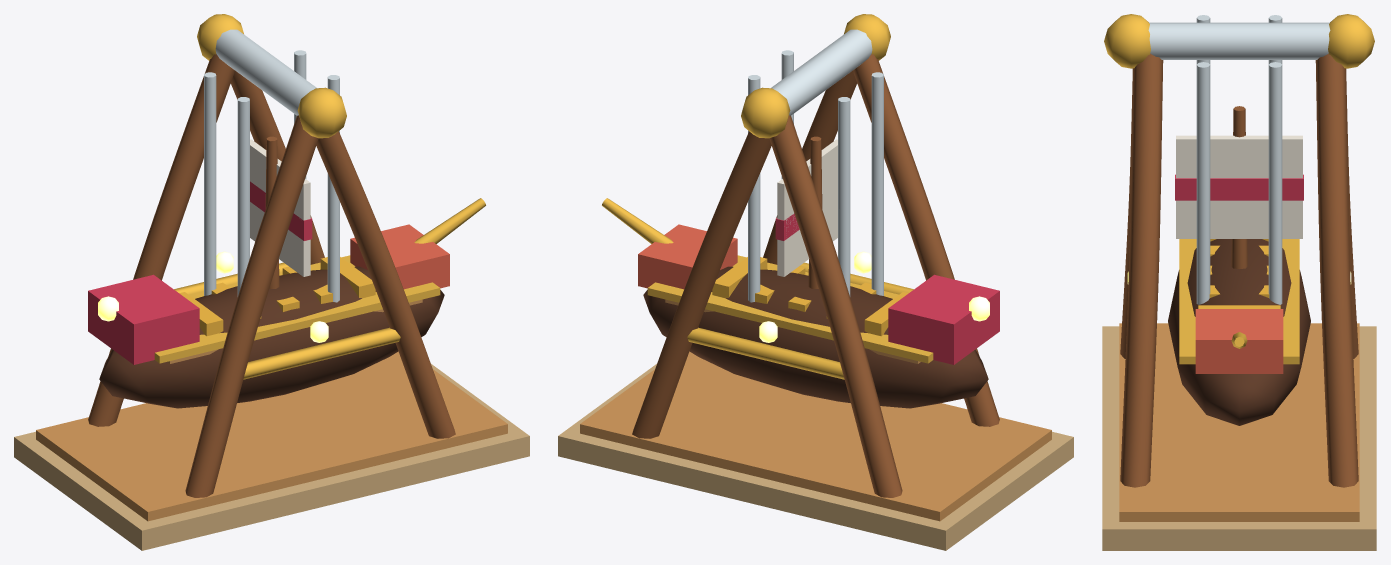
File: pendulum-ship.glb
3 renders of one model, left to right at view 1: azimuth 30°, elevation 25°; view 2: azimuth 150°, elevation 25°; view 3: azimuth 270°, elevation 25°, orthographic. The views are drawn at different scales.
Parts seen in each view (by area): view 1: Mesh_lightWood, Mesh_wood (×2), Mesh_sandStone, Mesh_darkWood, Mesh_chrome (×2), Mesh_gold (×2), Mesh_crimson, Mesh_coral, Mesh_warmWhite, Mesh_mango, Mesh_glowWarm; view 2: Mesh_lightWood, Mesh_wood (×2), Mesh_sandStone, Mesh_darkWood, Mesh_chrome (×2), Mesh_gold (×2), Mesh_crimson, Mesh_coral, Mesh_warmWhite, Mesh_mango, Mesh_glowWarm; view 3: Mesh_wood (×2), Mesh_lightWood, Mesh_sandStone, Mesh_chrome (×2), Mesh_darkWood, Mesh_warmWhite, Mesh_gold (×2), Mesh_coral, Mesh_crimson, Mesh_mango.
Boxes of the visible parts, box(x1,y1,x2,y2) form: Mesh_lightWood: box(36, 351, 507, 521); Mesh_wood (×2): box(88, 54, 455, 497); Mesh_sandStone: box(14, 364, 529, 550); Mesh_darkWood: box(99, 266, 444, 408); Mesh_chrome (×2): box(204, 29, 339, 302); Mesh_gold (×2): box(154, 14, 485, 379); Mesh_crimson: box(88, 181, 312, 364); Mesh_coral: box(350, 224, 449, 289); Mesh_warmWhite: box(250, 139, 310, 276); Mesh_mango: box(179, 257, 375, 336); Mesh_glowWarm: box(216, 251, 328, 342); Mesh_lightWood: box(580, 351, 1051, 521); Mesh_wood (×2): box(632, 54, 999, 497); Mesh_sandStone: box(558, 364, 1073, 550); Mesh_darkWood: box(643, 266, 988, 408); Mesh_chrome (×2): box(748, 29, 883, 302); Mesh_gold (×2): box(602, 14, 933, 379); Mesh_crimson: box(775, 213, 999, 364); Mesh_coral: box(638, 224, 737, 289); Mesh_warmWhite: box(777, 139, 837, 276); Mesh_mango: box(712, 257, 908, 336); Mesh_glowWarm: box(759, 251, 871, 342); Mesh_wood (×2): box(1120, 53, 1358, 487); Mesh_lightWood: box(1119, 323, 1359, 521); Mesh_sandStone: box(1102, 326, 1376, 550); Mesh_chrome (×2): box(1148, 15, 1330, 304); Mesh_darkWood: box(1168, 239, 1310, 425); Mesh_warmWhite: box(1176, 135, 1302, 238); Mesh_gold (×2): box(1104, 14, 1374, 364); Mesh_coral: box(1195, 309, 1283, 373); Mesh_crimson: box(1175, 174, 1303, 200); Mesh_mango: box(1198, 239, 1280, 308).
Bounding box in the file's own units: 5.87 × 5.57 × 3.2.
